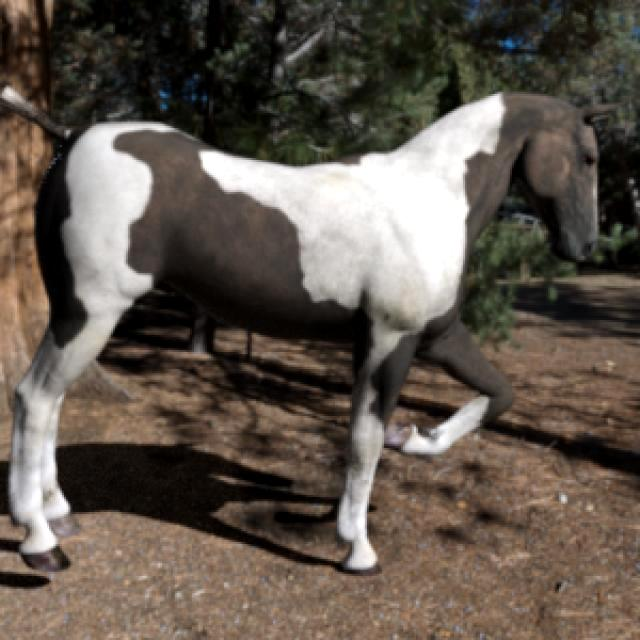horse: (1, 90, 614, 573)
